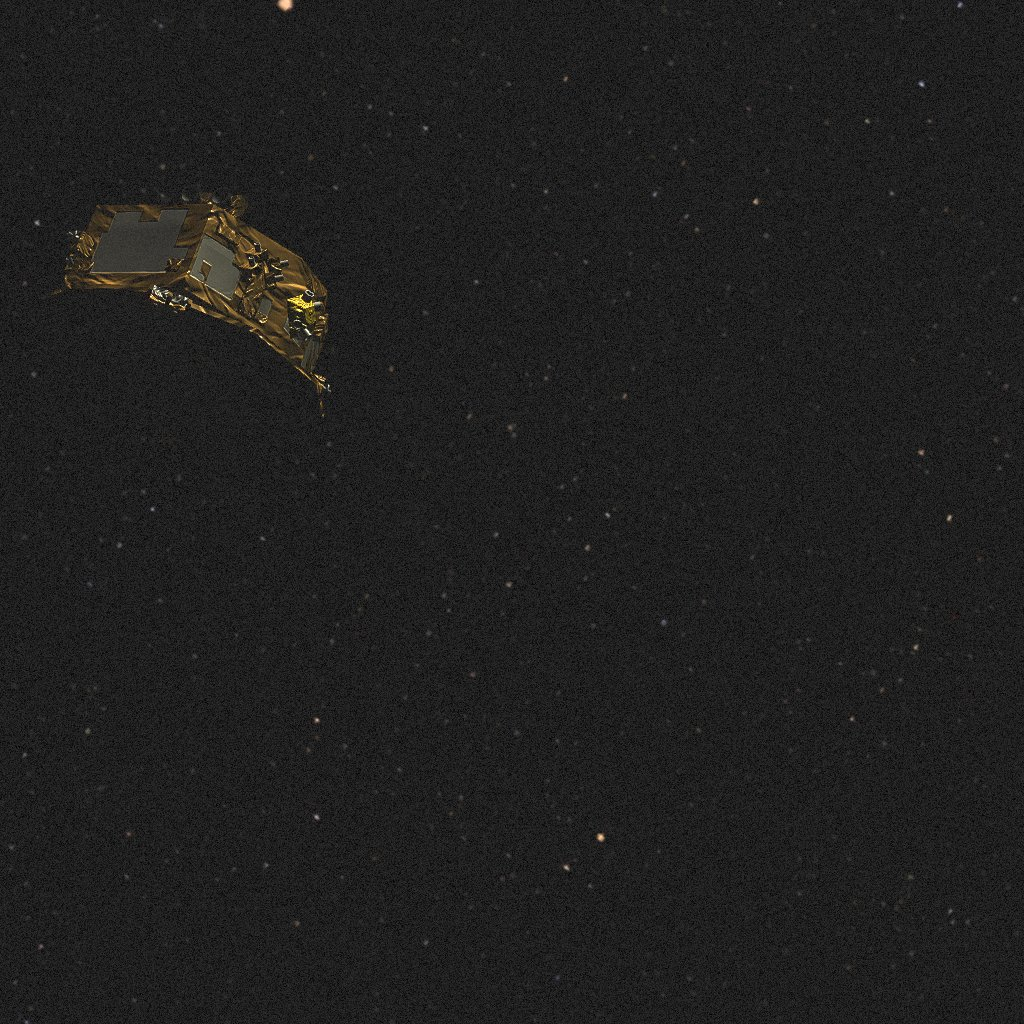lisa_pathfinder: (39, 206, 329, 478)
